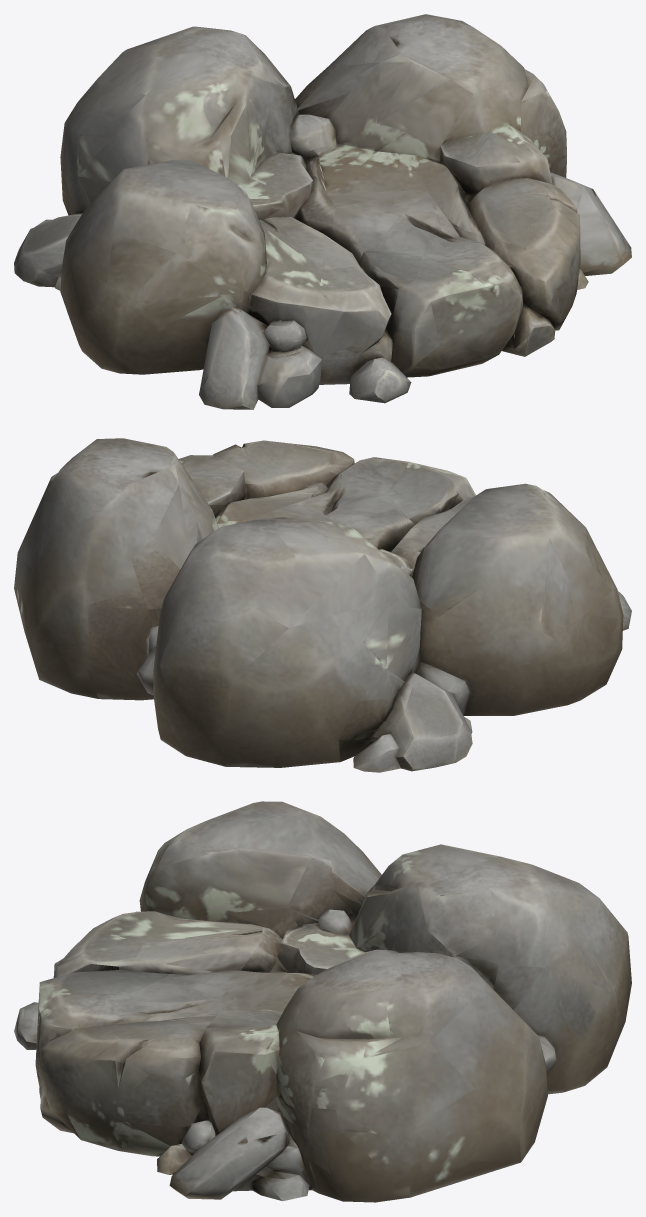
The picture shows the model from 3 angles, top to bottom: view 1: azimuth 30°, elevation 25°; view 2: azimuth 150°, elevation 25°; view 3: azimuth 270°, elevation 25°; orthographic projection. The views are drawn at different scales.
Visible parts, largest first — view 1: stone_outcrop; view 2: stone_outcrop; view 3: stone_outcrop.
Part boxes in pixels (x1,y1,x2,y2): stone_outcrop: (14, 14, 631, 409); stone_outcrop: (14, 438, 631, 772); stone_outcrop: (14, 801, 631, 1202).
Bounding box in the file's own units: 1.9 × 0.6274 × 1.85.
Materials: 1 (1 with a texture image).
